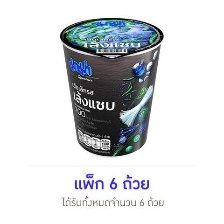paper_cup: (55, 14, 167, 163)
